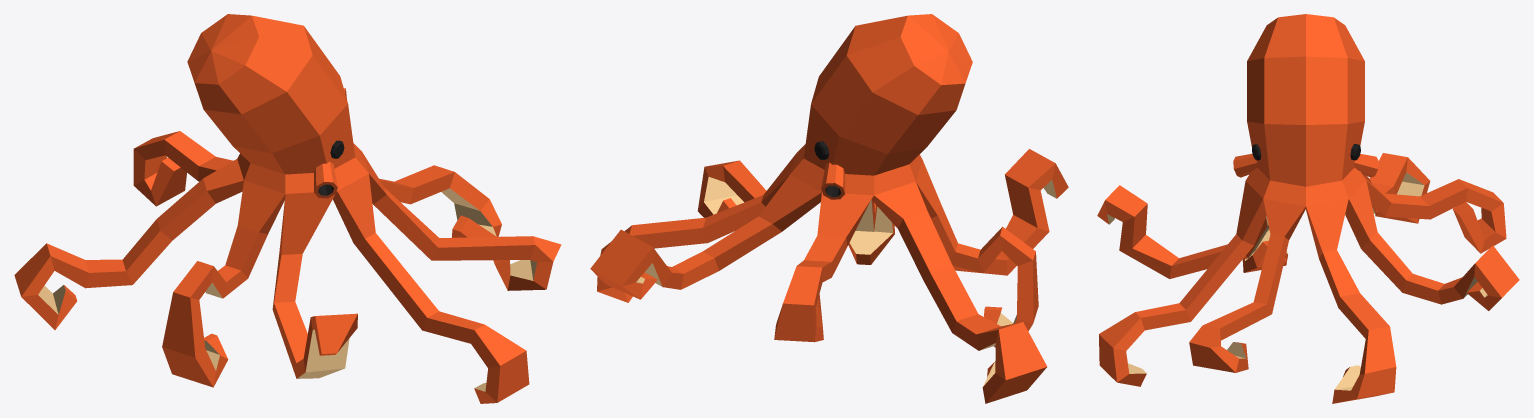
The model's file is Octopus_01.gltf.
3 renders of one model, left to right at view 1: azimuth 30°, elevation 25°; view 2: azimuth 150°, elevation 25°; view 3: azimuth 270°, elevation 25°, orthographic. The views are drawn at different scales.
Visible parts, largest first — view 1: node-0; view 2: node-0; view 3: node-0.
Boxes of the visible parts, left/top/right/bottom form: node-0: left=14, top=14, right=561, bottom=403; node-0: left=590, top=14, right=1068, bottom=403; node-0: left=1097, top=14, right=1519, bottom=403.
Size of the model in its own units: 12.03 by 8.69 by 10.71.
